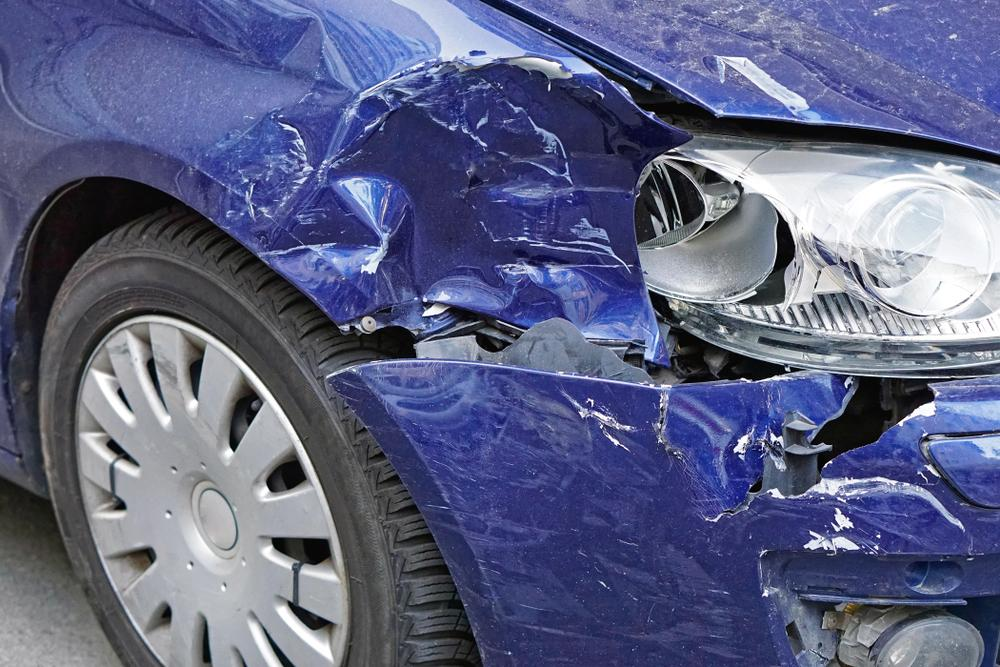crack: (656, 377, 937, 523)
dent: (69, 0, 666, 342)
lamp broken: (634, 127, 1000, 372)
scratch: (800, 471, 979, 552)
